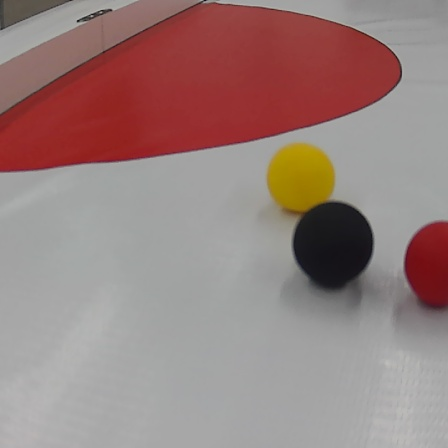black: (293, 201, 375, 294)
red: (405, 215, 448, 313)
red_base: (2, 3, 409, 167)
yellow: (266, 144, 342, 211)
